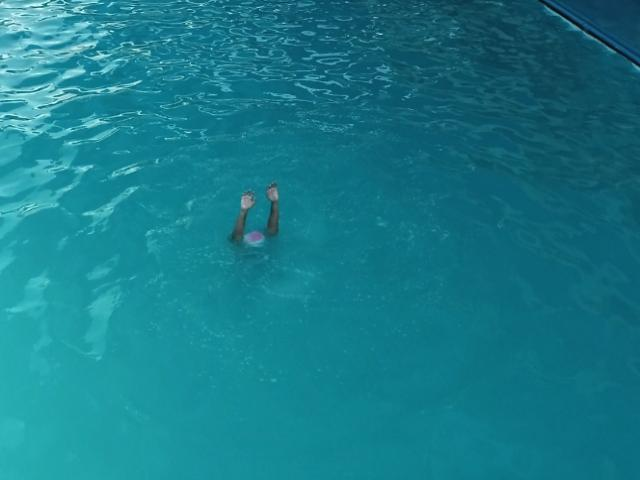drowning: (228, 179, 282, 259)
